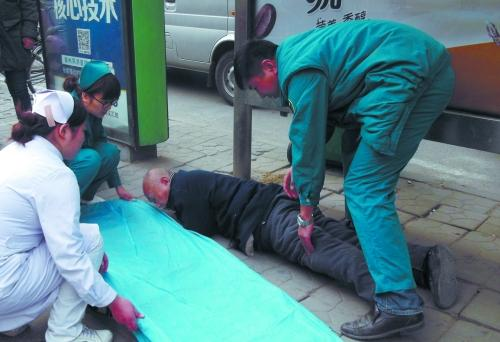bending: (225, 22, 479, 306), (1, 87, 133, 341), (54, 63, 135, 208)
down: (134, 151, 463, 316)
